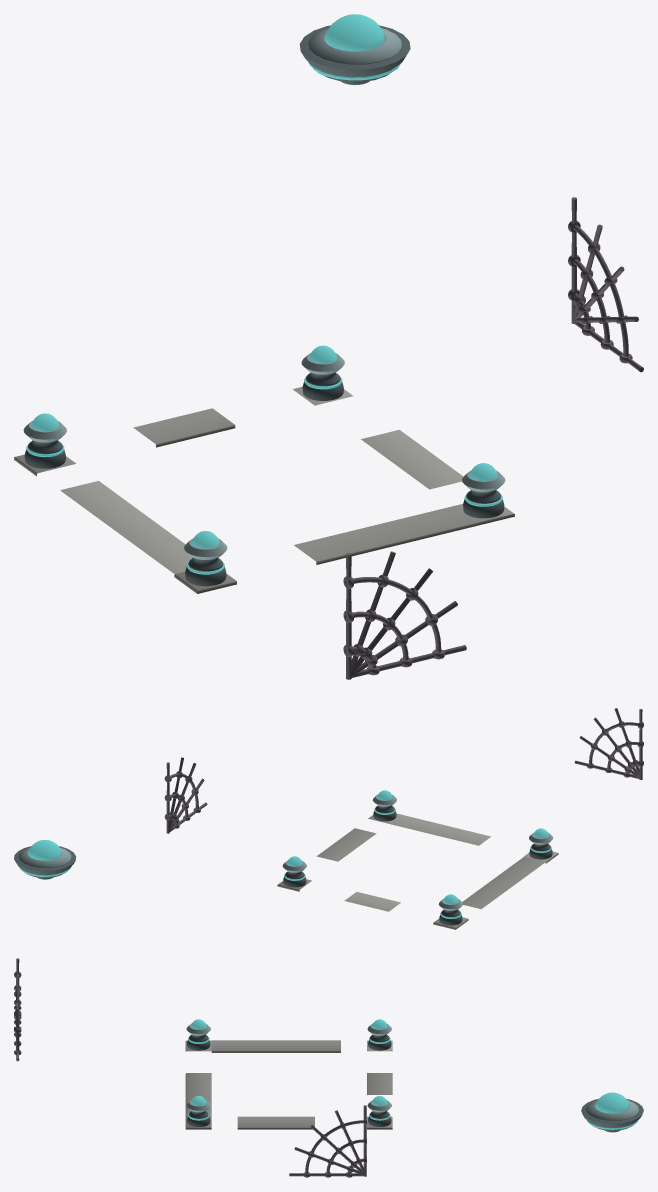
3 renders of one model, top to bottom at view 1: azimuth 30°, elevation 25°; view 2: azimuth 150°, elevation 25°; view 3: azimuth 270°, elevation 25°, orthographic. The views are drawn at different scales.
Visible parts, largest first — view 1: colored, original_0; view 2: colored, original_0; view 3: colored, original_0.
Boxes of the visible parts, x1,y1,x2,y2 form: colored: (14,25,643,679); original_0: (308,14,400,80); colored: (14,708,643,929); original_0: (19,840,70,876); colored: (14,958,643,1177); original_0: (586,1092,638,1129).
Size of the model in its own units: 14.72 by 4.08 by 24.36.
